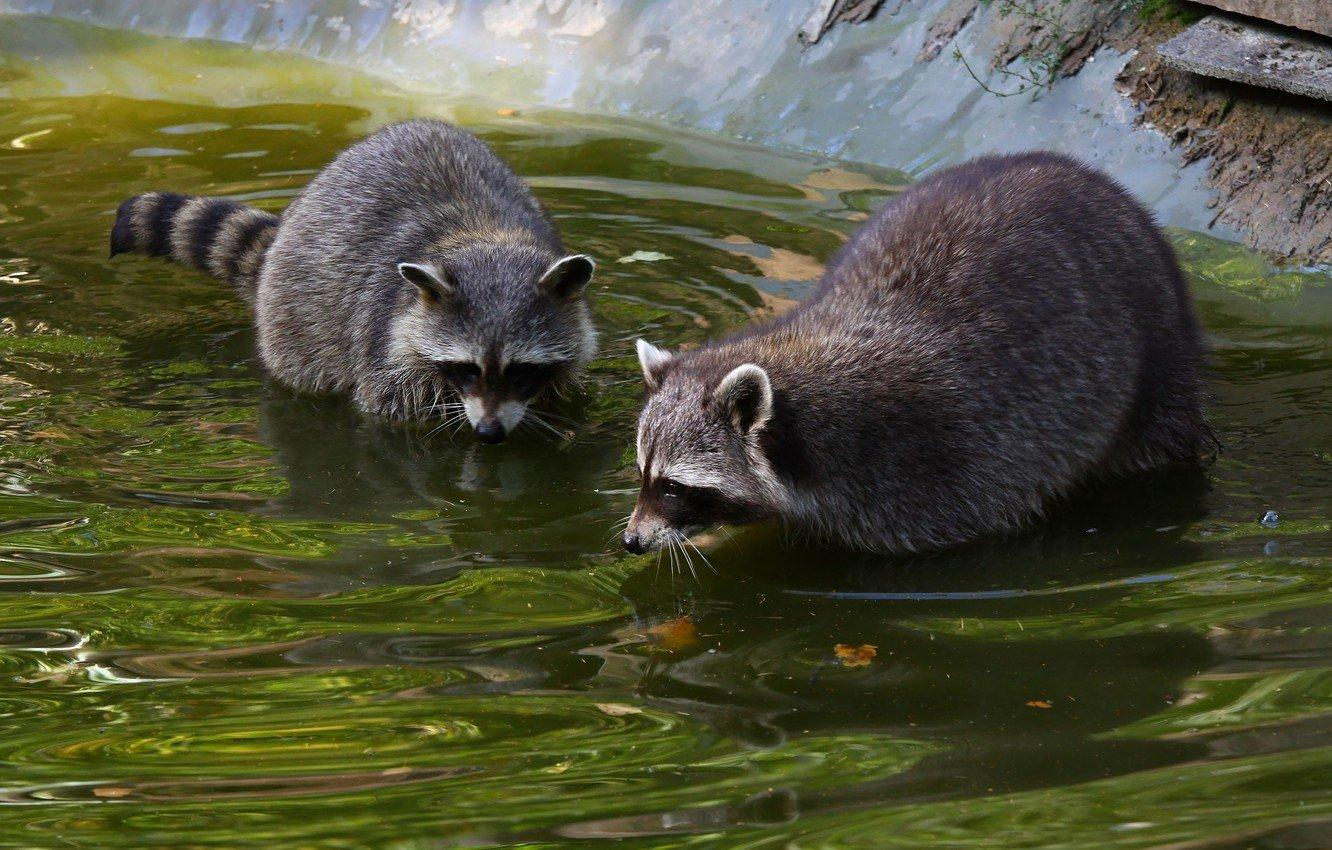raccoon: (615, 146, 1214, 571), (109, 110, 600, 446)
